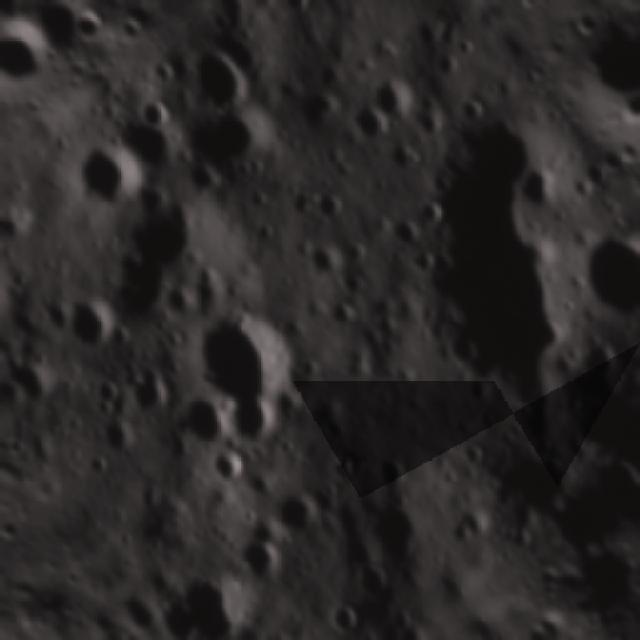crater: (167, 276, 311, 424), (73, 223, 202, 352), (113, 172, 227, 286), (481, 430, 596, 541), (183, 84, 297, 193), (159, 29, 267, 134), (143, 549, 266, 640), (54, 126, 154, 231), (563, 214, 640, 340), (356, 492, 447, 583), (54, 278, 138, 368), (104, 101, 190, 188), (212, 513, 297, 599), (256, 469, 339, 554), (356, 54, 435, 132), (164, 378, 242, 456), (212, 382, 290, 458), (275, 72, 350, 146), (0, 343, 69, 414), (0, 221, 35, 360), (116, 357, 182, 425), (172, 254, 239, 320), (339, 91, 404, 157), (564, 332, 628, 397), (374, 125, 438, 188), (508, 155, 570, 216), (89, 406, 149, 465), (438, 494, 498, 552), (402, 90, 460, 148), (398, 0, 459, 55), (199, 434, 256, 492), (257, 374, 314, 432), (298, 230, 353, 285), (378, 204, 432, 258), (349, 553, 402, 607), (368, 444, 420, 498), (314, 287, 366, 338), (440, 323, 489, 374), (129, 87, 177, 138), (322, 592, 372, 640), (84, 368, 131, 418), (0, 190, 40, 247), (396, 237, 444, 283), (244, 612, 318, 640), (425, 42, 470, 86), (449, 82, 493, 127), (454, 432, 498, 477), (310, 182, 355, 225), (77, 444, 120, 487), (458, 367, 500, 410), (446, 23, 486, 65), (573, 152, 613, 193), (412, 192, 452, 232), (563, 168, 602, 208), (242, 179, 280, 218), (237, 0, 286, 28), (274, 0, 326, 26), (301, 623, 353, 640)
